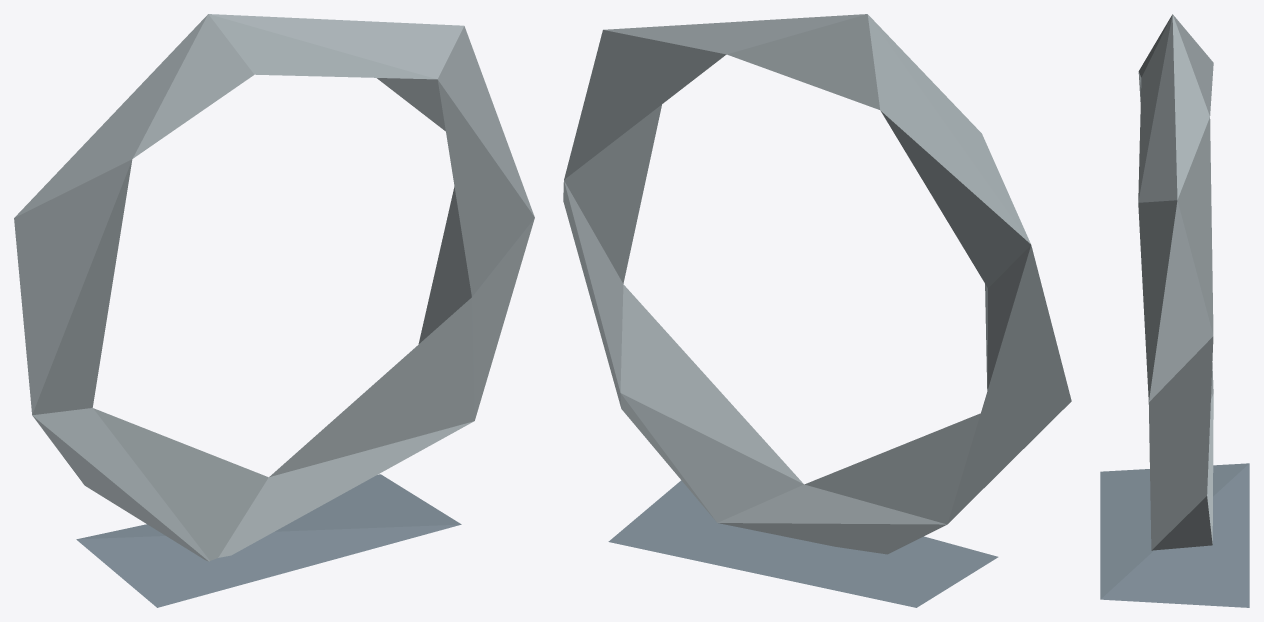
Rendered from Landmark_03_LOD2.fbx.
3 views of the same model, side by side, from view 1: azimuth 30°, elevation 25°; view 2: azimuth 150°, elevation 25°; view 3: azimuth 270°, elevation 25° (orthographic). The views are drawn at different scales.
Parts seen in each view (by area): view 1: Landmark_03_LOD2; view 2: Landmark_03_LOD2; view 3: Landmark_03_LOD2.
Boxes of the visible parts, x1,y1,x2,y2 form: Landmark_03_LOD2: [14, 14, 534, 607]; Landmark_03_LOD2: [563, 14, 1071, 607]; Landmark_03_LOD2: [1100, 14, 1249, 607].
Size of the model in its own units: 368 by 380 by 103.
